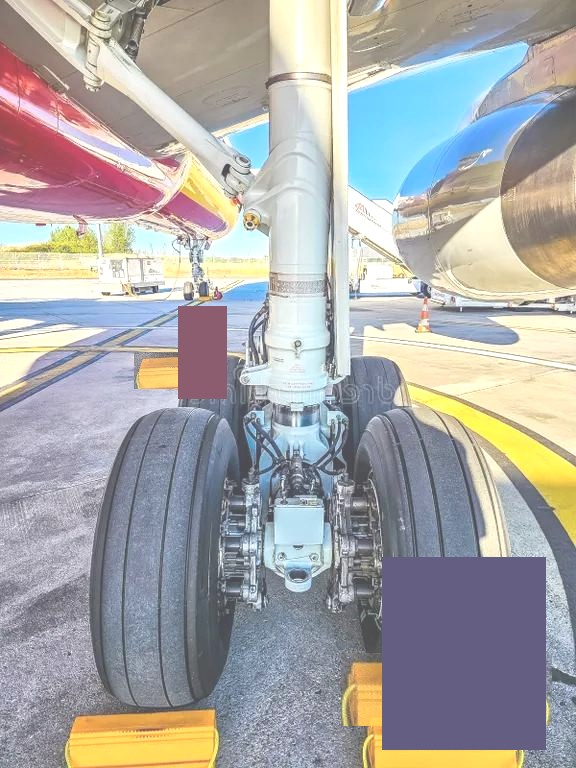chock: (341, 653, 552, 726), (61, 705, 218, 768), (362, 710, 526, 767), (134, 352, 227, 389), (199, 295, 211, 304)
wheel: (353, 407, 512, 711), (90, 408, 240, 706), (177, 353, 252, 473), (340, 355, 409, 464), (184, 281, 195, 300), (199, 281, 210, 297)
